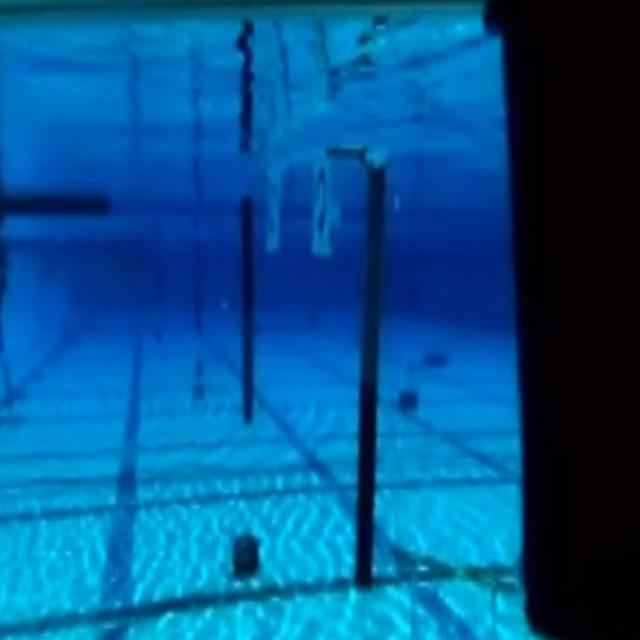Gate: (236, 141, 391, 603)
